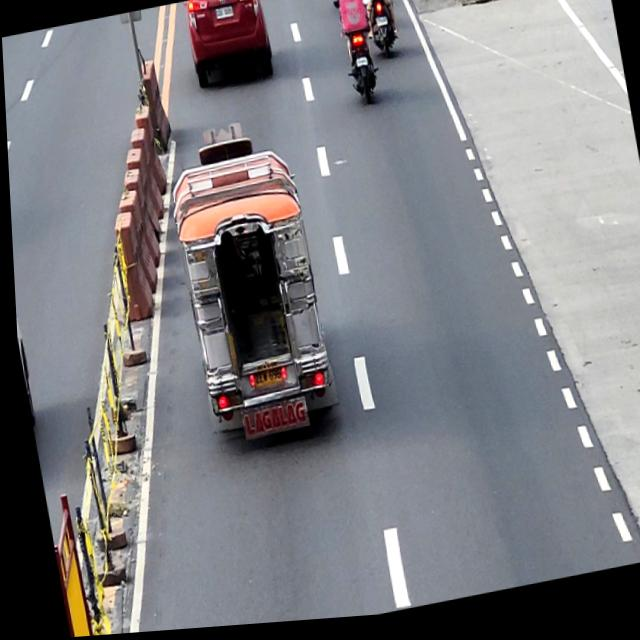Car: (182, 0, 276, 94)
Jeep: (161, 126, 339, 454)
License-Plate: (245, 369, 281, 394), (214, 7, 234, 24), (354, 61, 367, 72), (374, 21, 387, 32)
Motorcycle: (331, 0, 384, 113), (358, 0, 401, 66)
